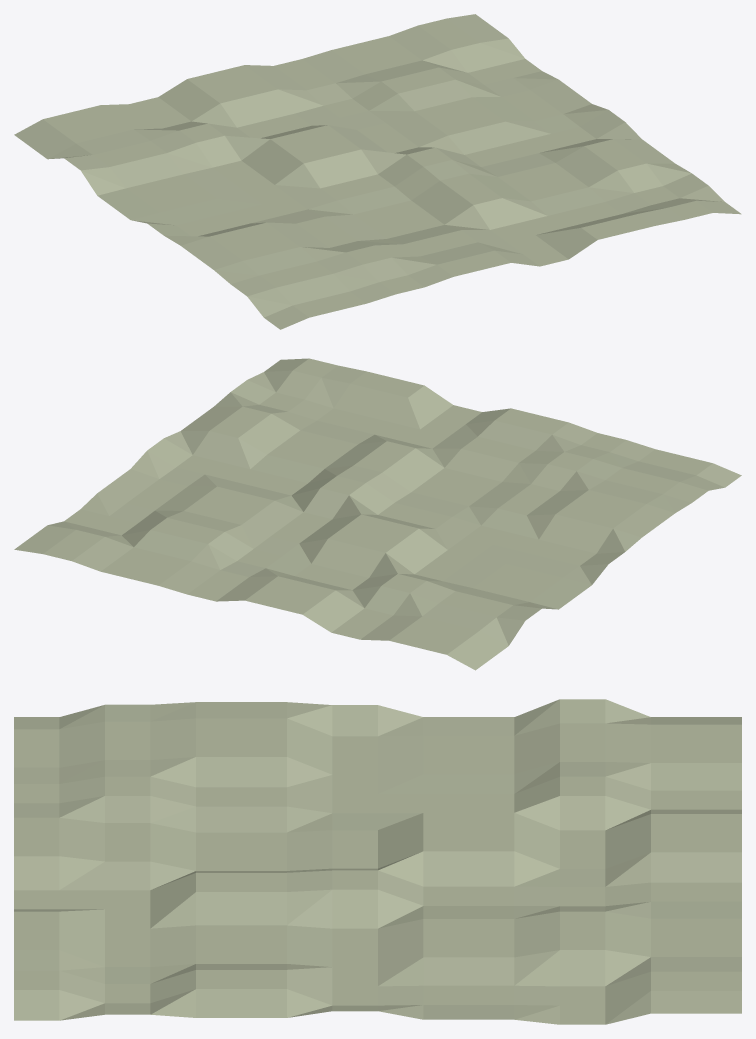
The picture shows the model from 3 angles, top to bottom: view 1: azimuth 30°, elevation 25°; view 2: azimuth 150°, elevation 25°; view 3: azimuth 270°, elevation 25°; orthographic projection. The views are drawn at different scales.
Bounding box in the file's own units: 32 × 0.9571 × 32.
